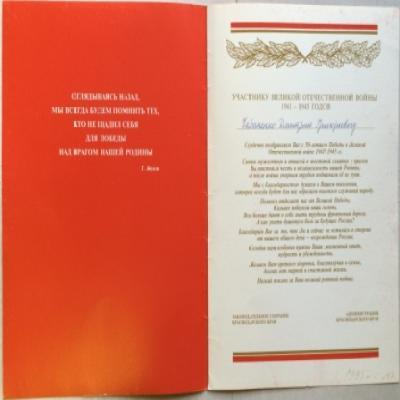document: (1, 2, 400, 389)
